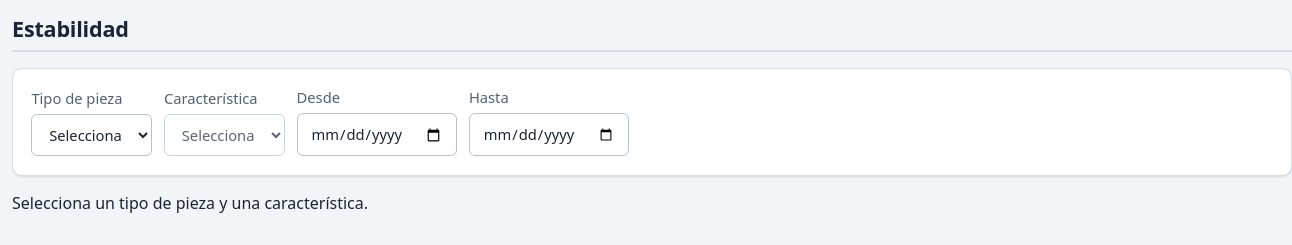
Scenario: reports characteristic loading errors
Select "PT-100" in the dropdown labelled "Tipo de pieza": x=92, y=135 [31, 114, 152, 156]
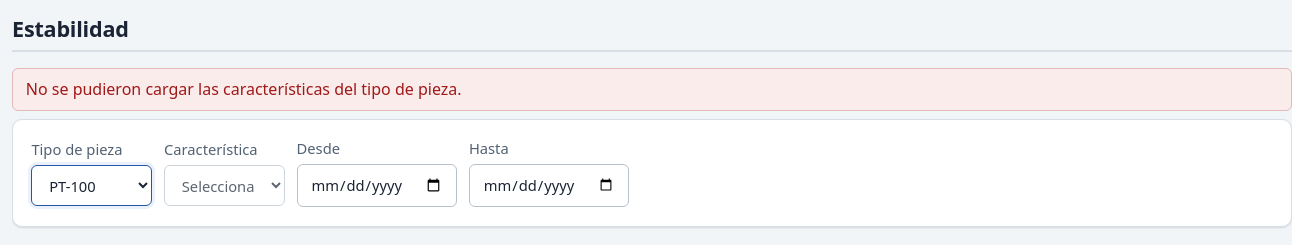
Expected: the message reads "No se pudieron cargar las características del tipo de pieza.", [26, 78, 462, 100]
